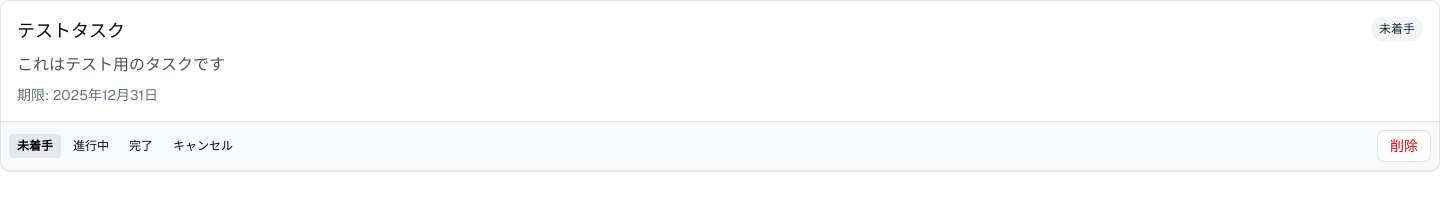
Test: TaskItem Component › shows error message when task status update fails
Click the button "進行中": (91, 146) [65, 134, 117, 158]
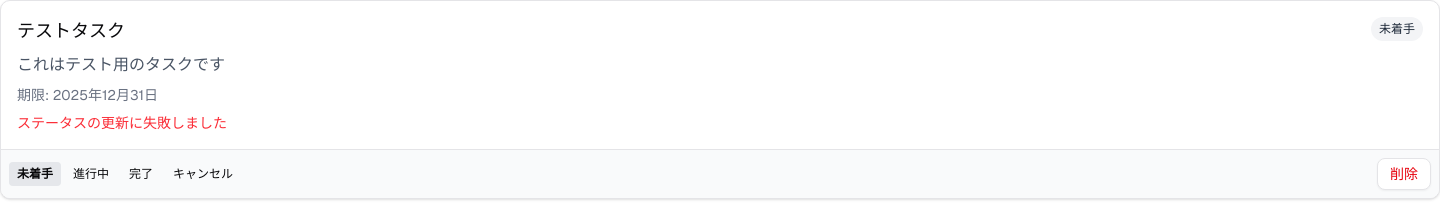
Check: the text "ステータスの更新に失敗しました" is shown, box [17, 114, 227, 132]
